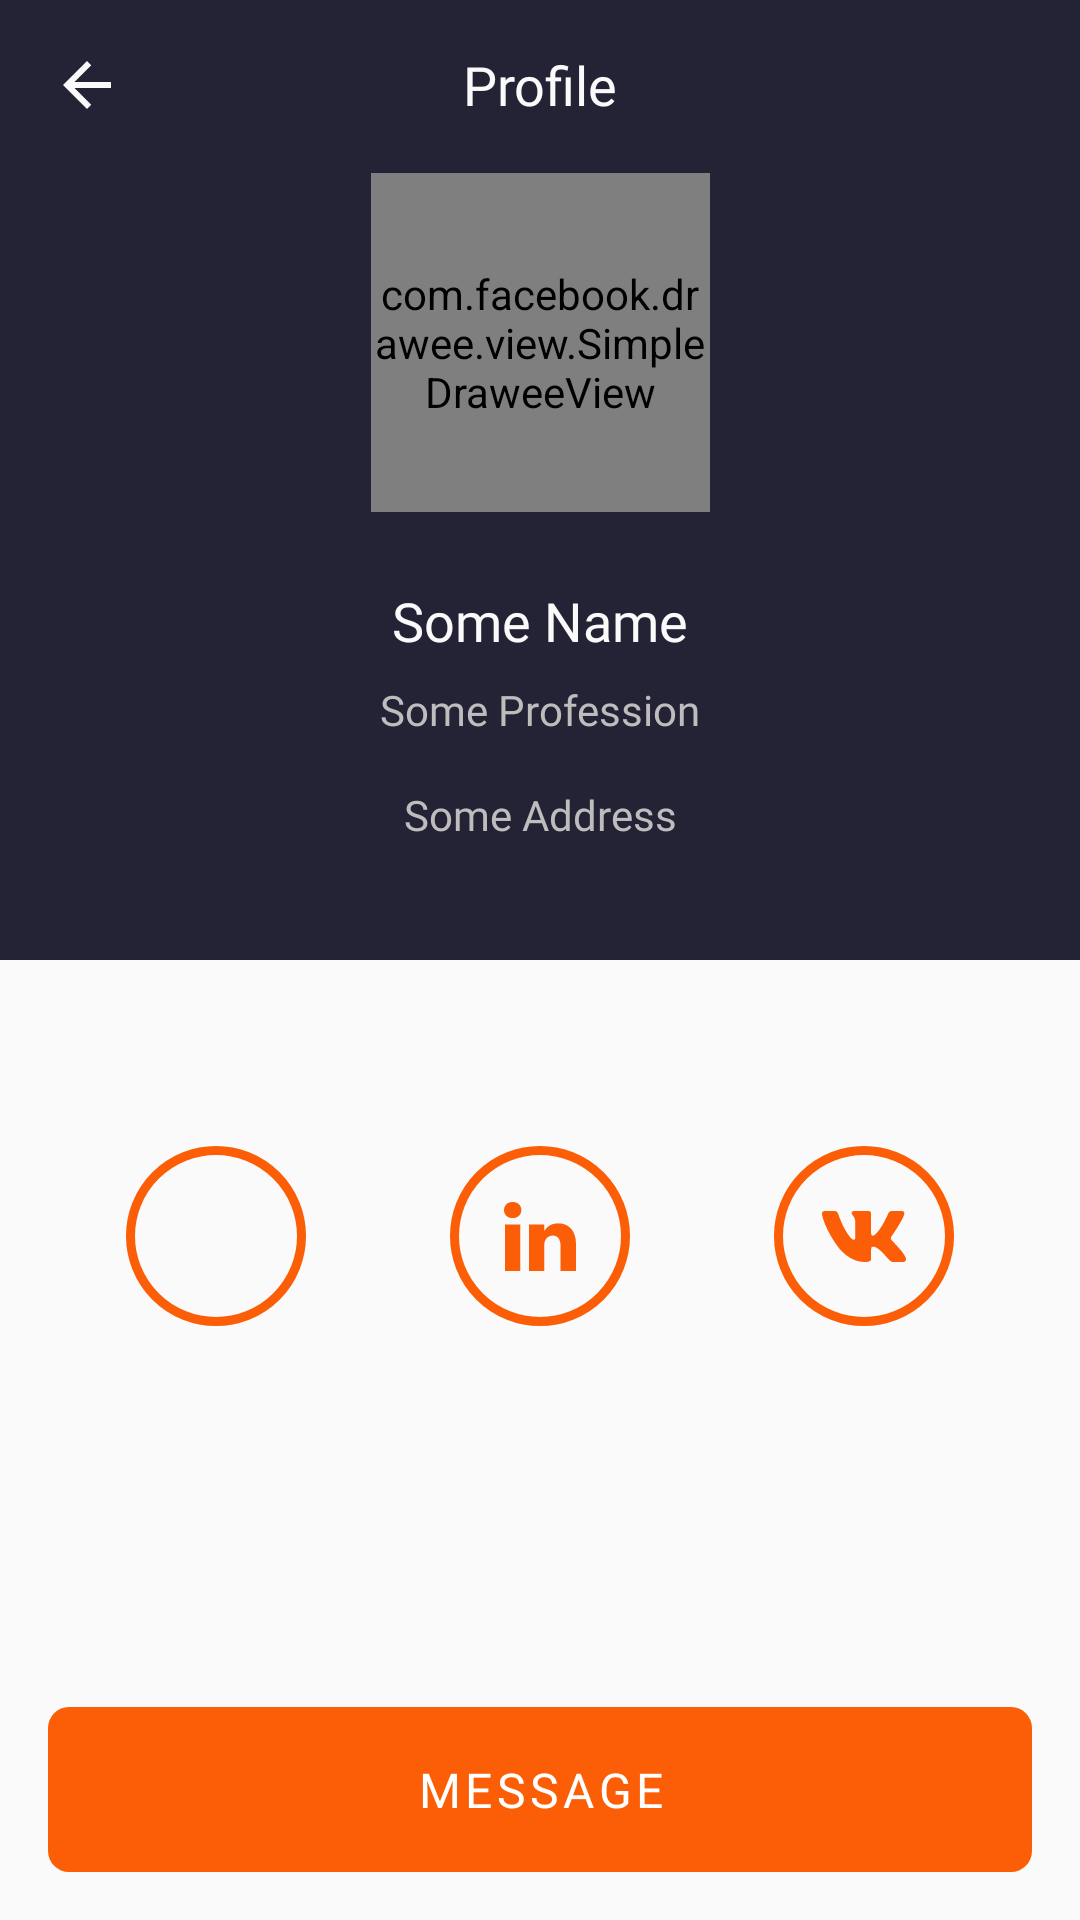

Locate icon controls on the screen. Image size 1080x1920, boxes as (x1, y1, x2, y2).
arrow back: (63, 61, 111, 109)
